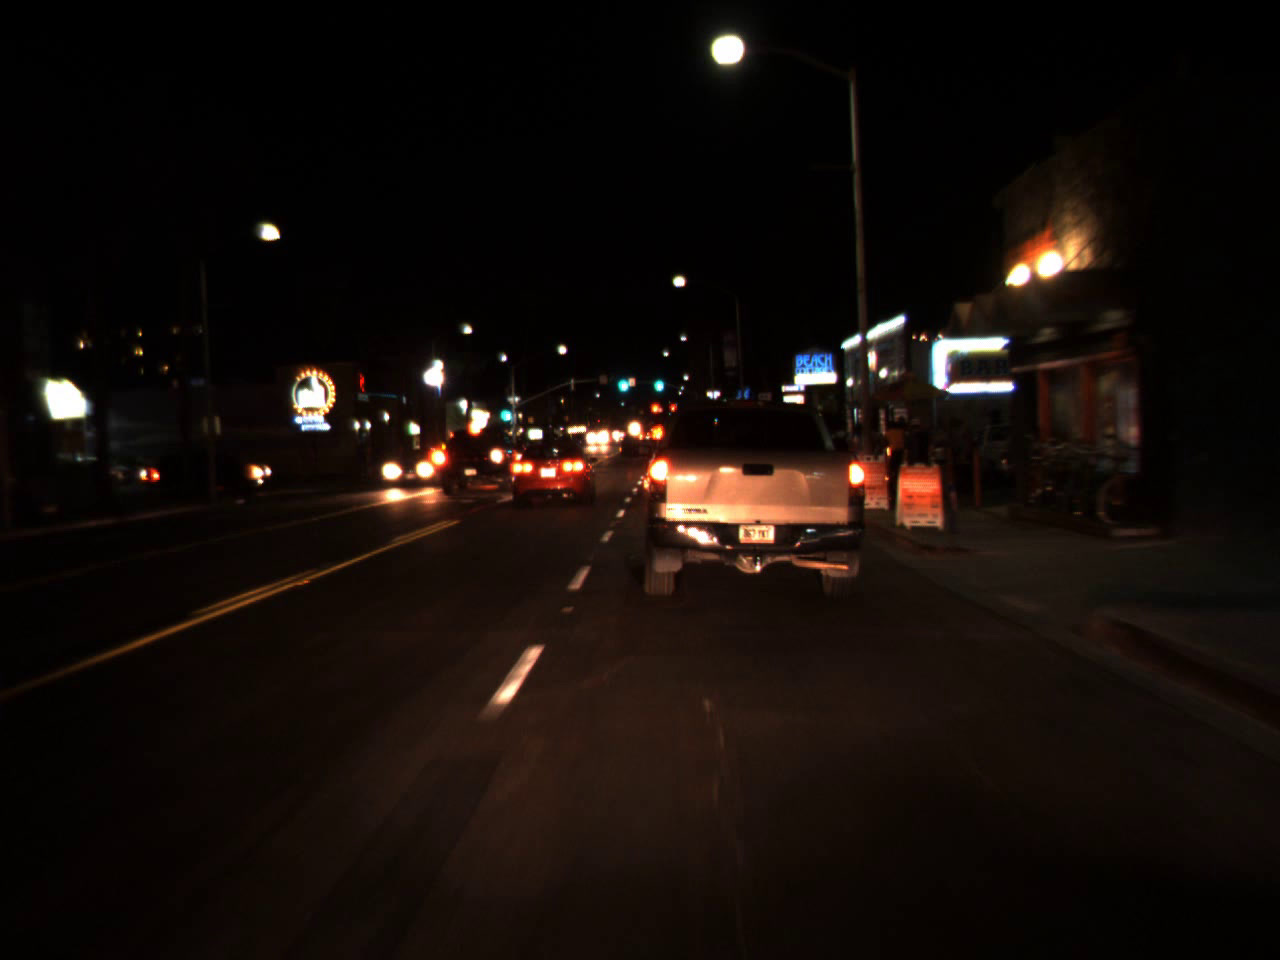go: (613, 366, 632, 396), (496, 397, 514, 424), (650, 366, 664, 396)
